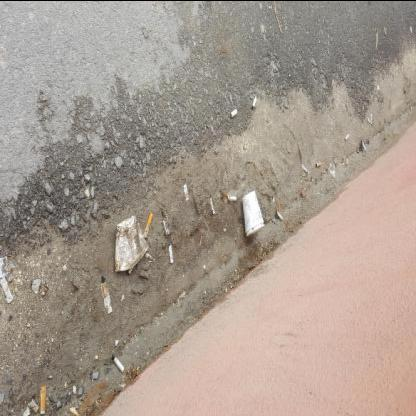Cigarette: (101, 274, 113, 313), (0, 276, 12, 303), (144, 210, 153, 240), (112, 354, 124, 372), (276, 208, 284, 220), (168, 244, 172, 263), (360, 139, 366, 150), (230, 108, 237, 117), (302, 162, 308, 172), (252, 96, 256, 108), (316, 160, 322, 166), (344, 132, 348, 140), (228, 195, 236, 199)
Cup: (115, 214, 148, 272), (242, 190, 264, 232), (246, 222, 265, 236)
Paper: (39, 384, 47, 414)
Unlabeled litter: (0, 254, 8, 276), (31, 278, 41, 293), (144, 252, 155, 263), (209, 195, 215, 213), (183, 182, 189, 199), (162, 218, 168, 233), (370, 113, 372, 123)
